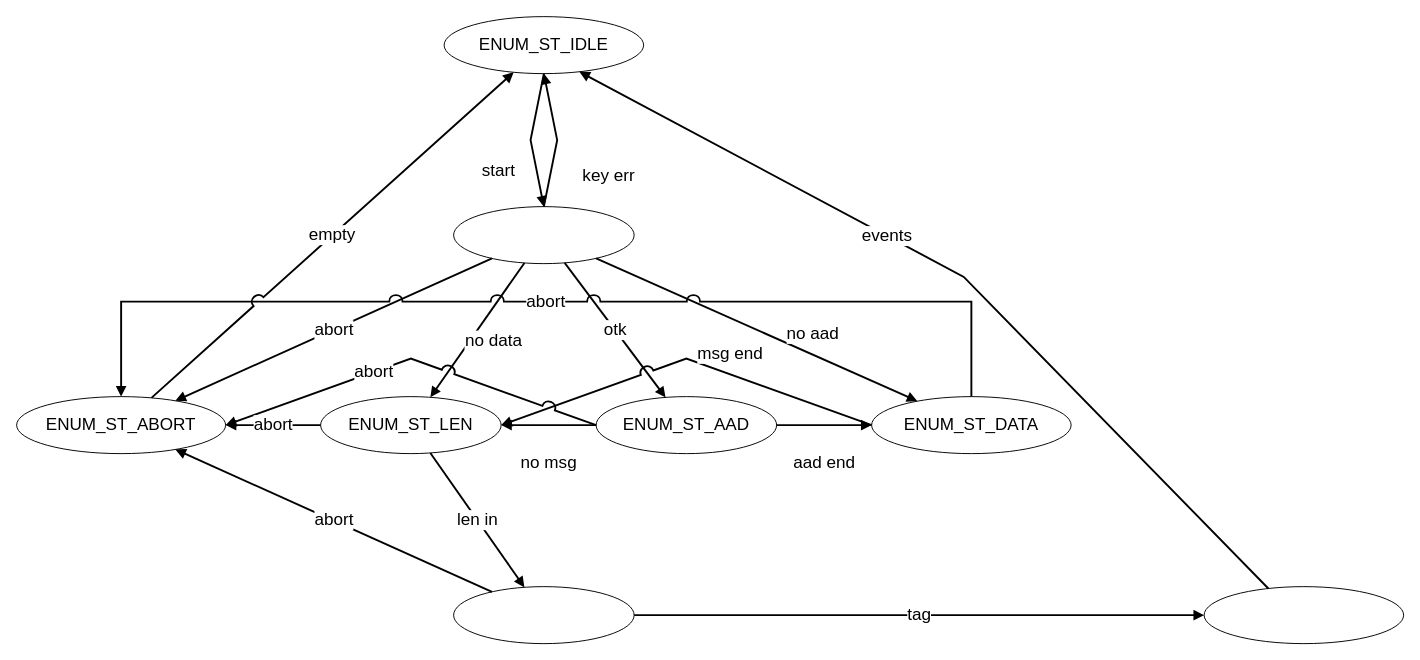
The diagram is 1420 pixels wide and 660 high, and some of its shapes have lost their labels. Each missing label, with the centre of its shape:
"ENUM_ST_DONE" belongs at point (1303, 615).
"ENUM_ST_KEY" belongs at point (543, 235).
"ENUM_ST_TAG" belongs at point (543, 615).
